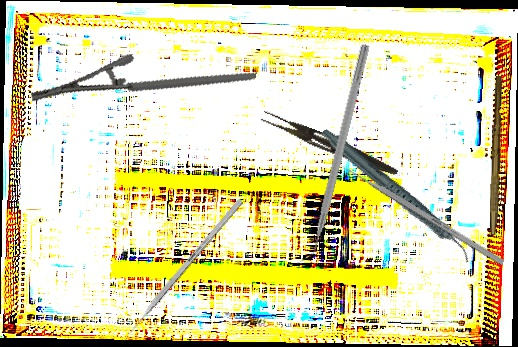Chopper: (293, 40, 371, 269)
Dressing Forceps: (258, 110, 402, 178)
Handpiece: (319, 103, 474, 289)
Needle Holder: (29, 20, 257, 154)
Pusher: (118, 198, 244, 345), (334, 159, 505, 266)
Scalpel Handle: (489, 75, 504, 236)
